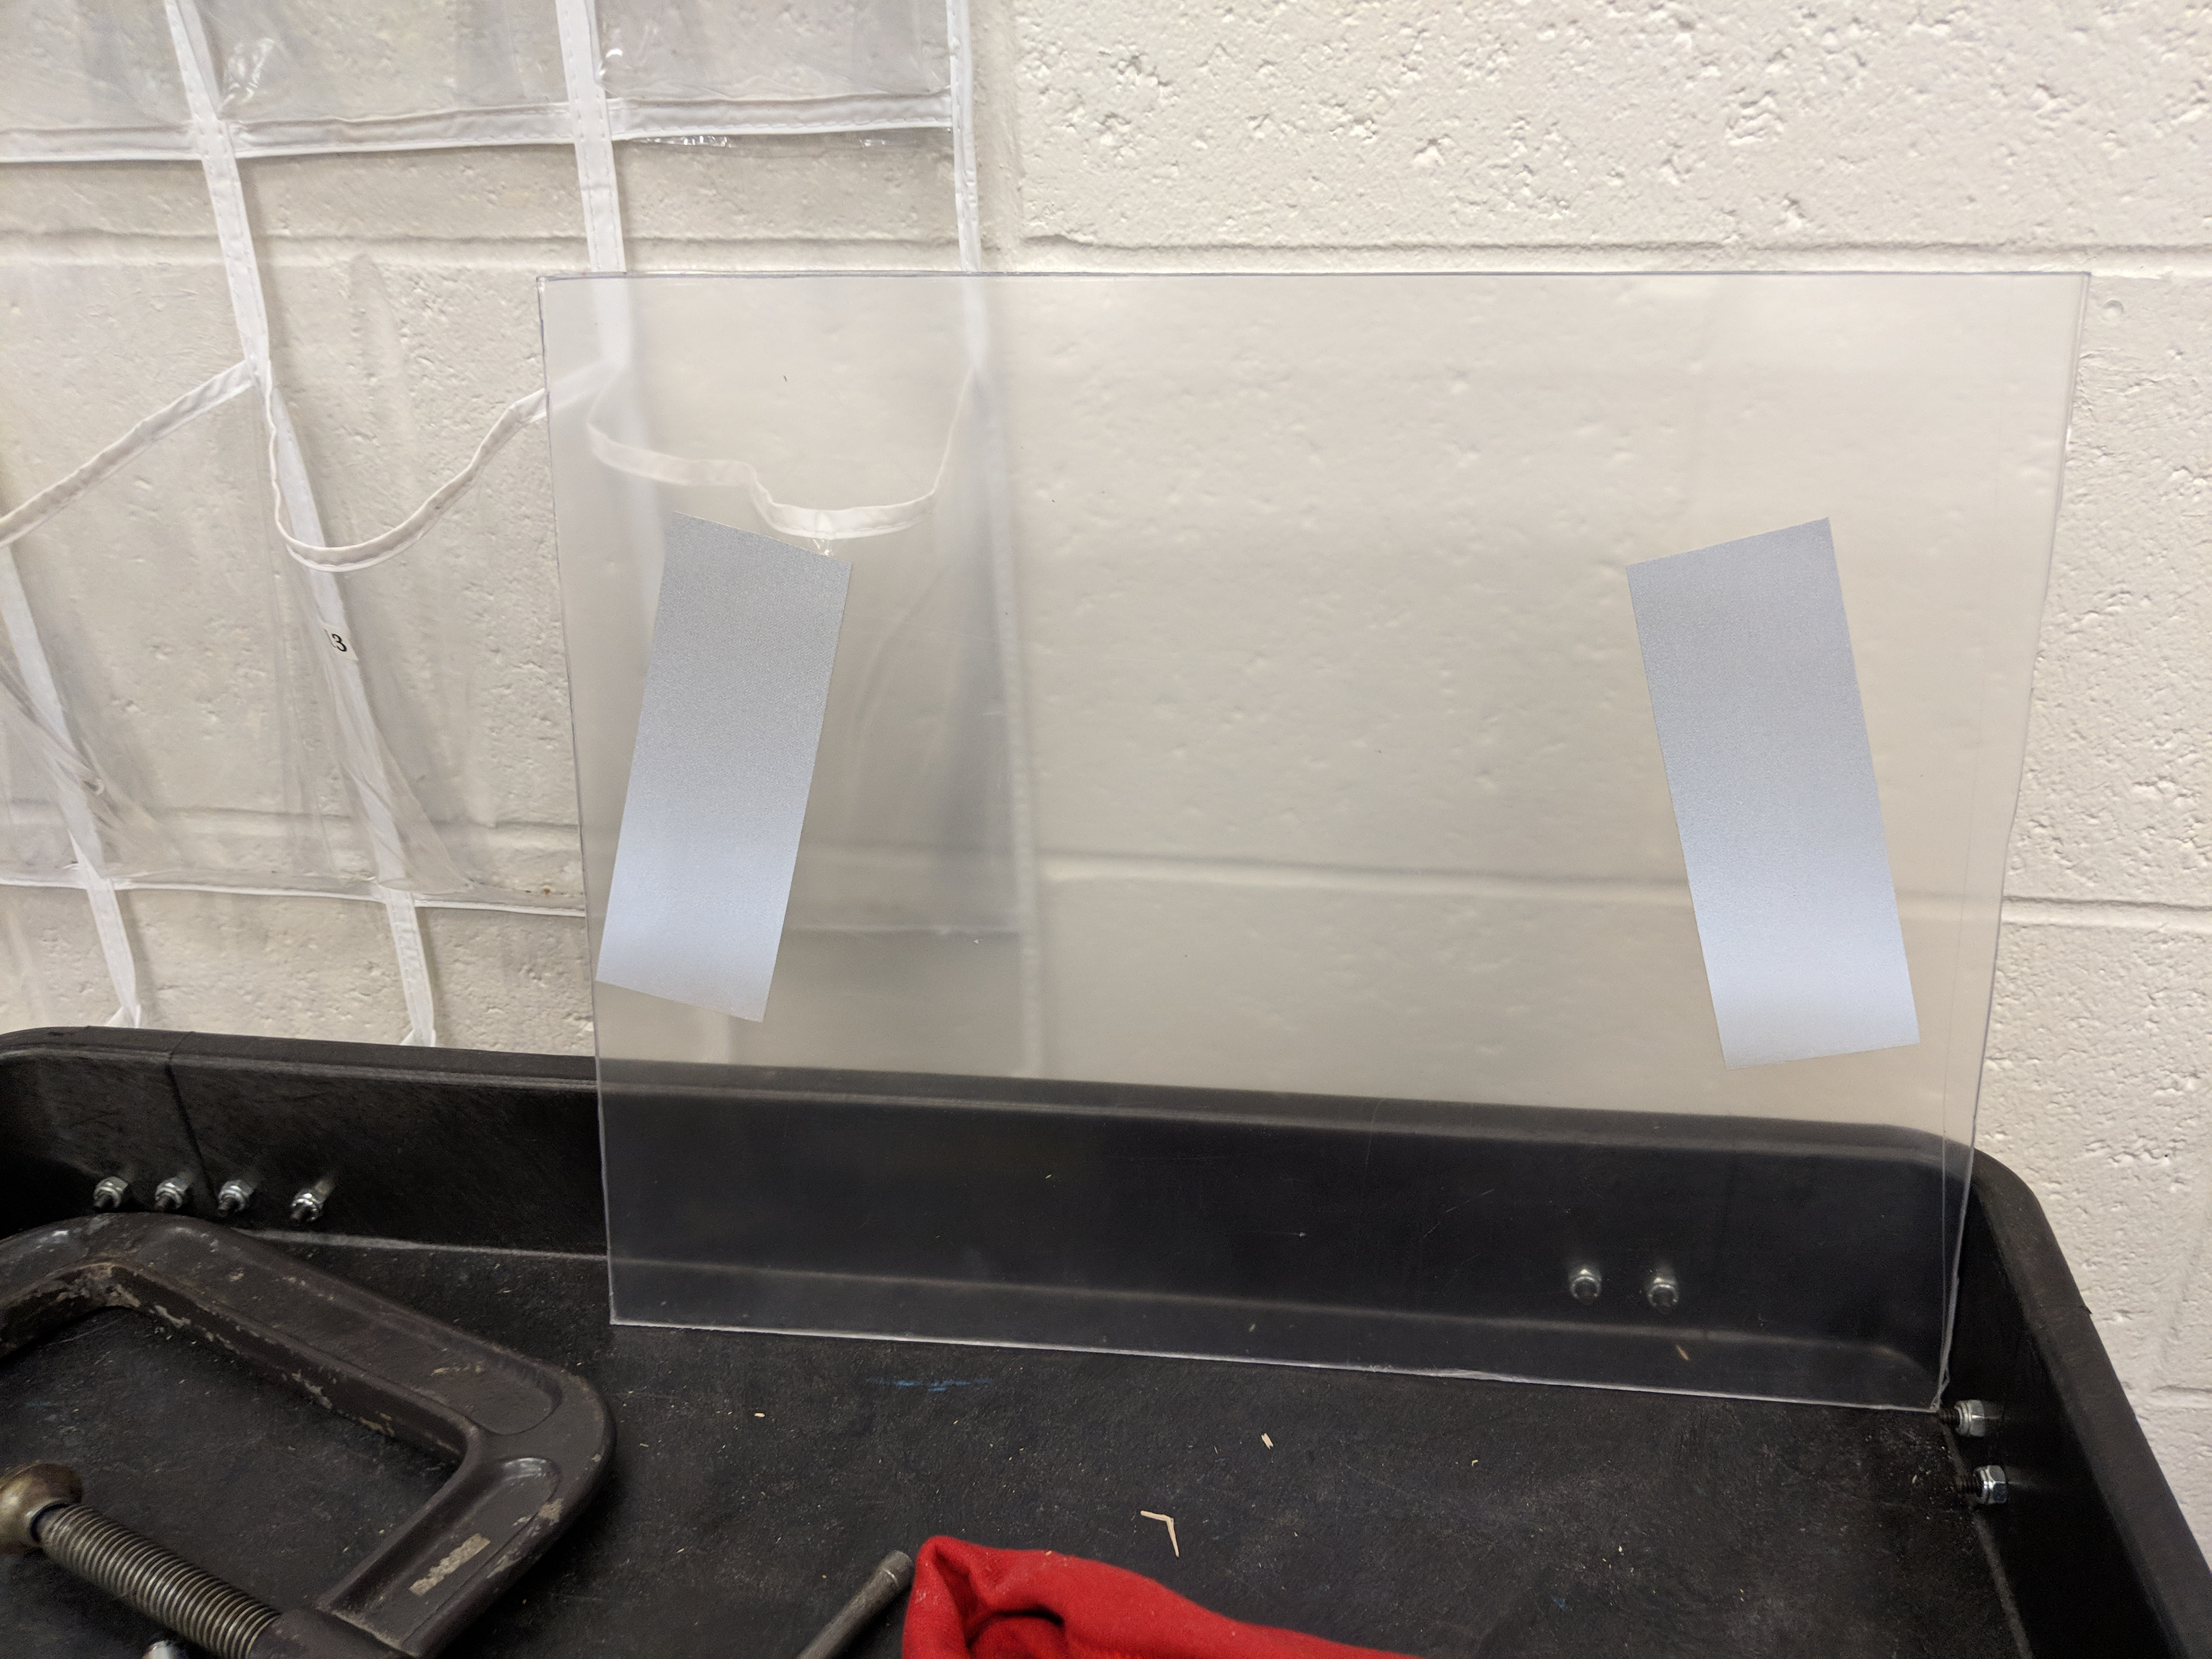vision_target: (585, 512, 1928, 1077)
